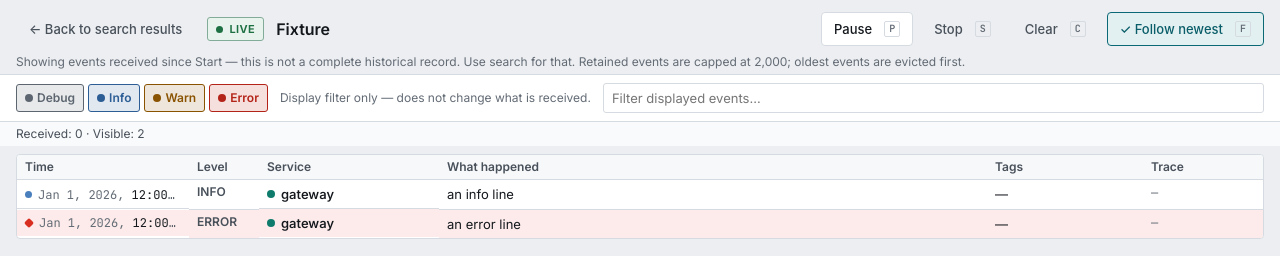
Test: LiveTailPanel › severity filtering (Legacy Remediation Slice 5) › shows only events matching the selected severity levels
Expected: the text "an info line" is shown, x1=439 y1=180 x2=987 y2=209
Expected: the text "an error line" is shown, x1=439 y1=209 x2=987 y2=238
# DRIFT-005 remediation - the level toggles are always-visible segmented buttons now, no popover.
Click the button "Info": click(114, 98) x1=88 y1=84 x2=140 y2=112
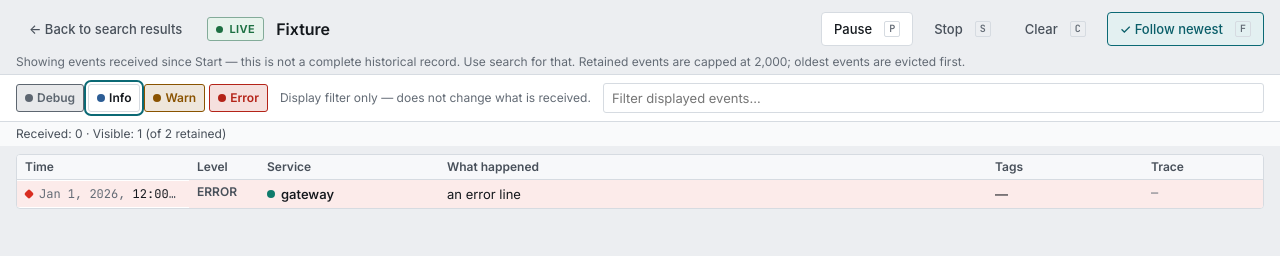
Expected: the text "an info line" is gone
Expected: the text "an error line" is shown, x1=439 y1=180 x2=987 y2=208
